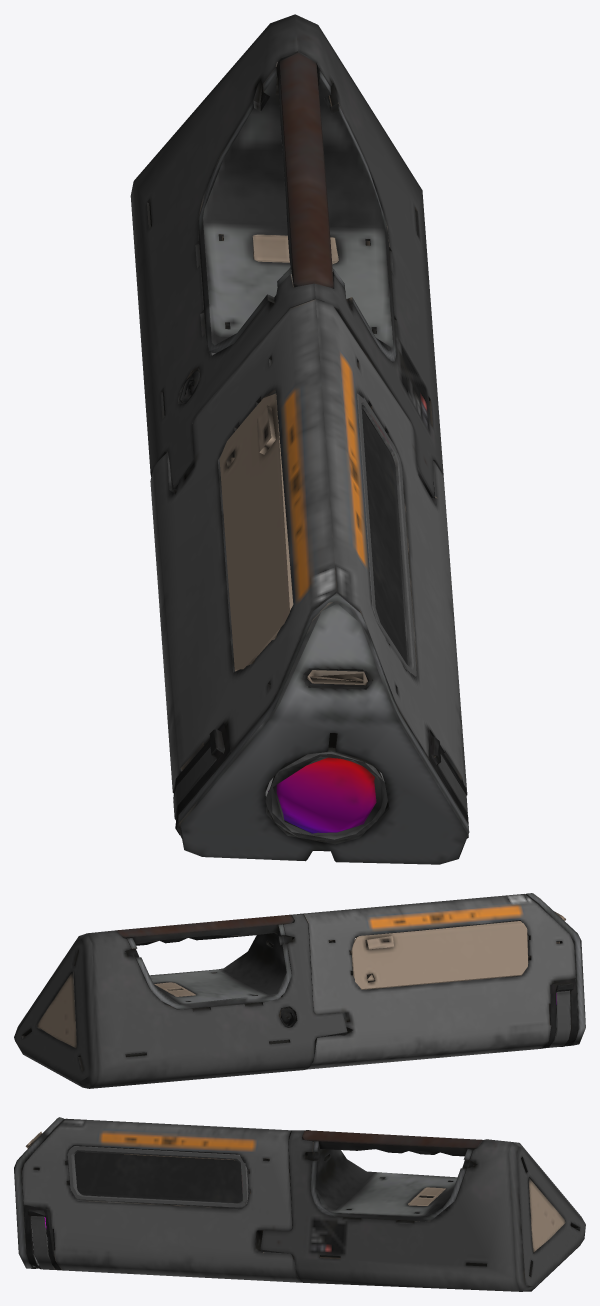
The model's file is hw_pop_proton.glb.
The picture shows the model from 3 angles, top to bottom: view 1: azimuth 30°, elevation 25°; view 2: azimuth 150°, elevation 25°; view 3: azimuth 270°, elevation 25°; orthographic projection. The views are drawn at different scales.
Parts seen in each view (by area): view 1: gun_002_low_gun_0; view 2: gun_002_low_gun_0; view 3: gun_002_low_gun_0.
Boxes of the visible parts, box(x1,y1,x2,y2) form: gun_002_low_gun_0: box(130, 14, 469, 864); gun_002_low_gun_0: box(14, 893, 585, 1088); gun_002_low_gun_0: box(14, 1117, 585, 1291).
Bounding box in the file's own units: 0.373 × 0.22 × 0.5473.
Materials: 1 (1 with a texture image).
